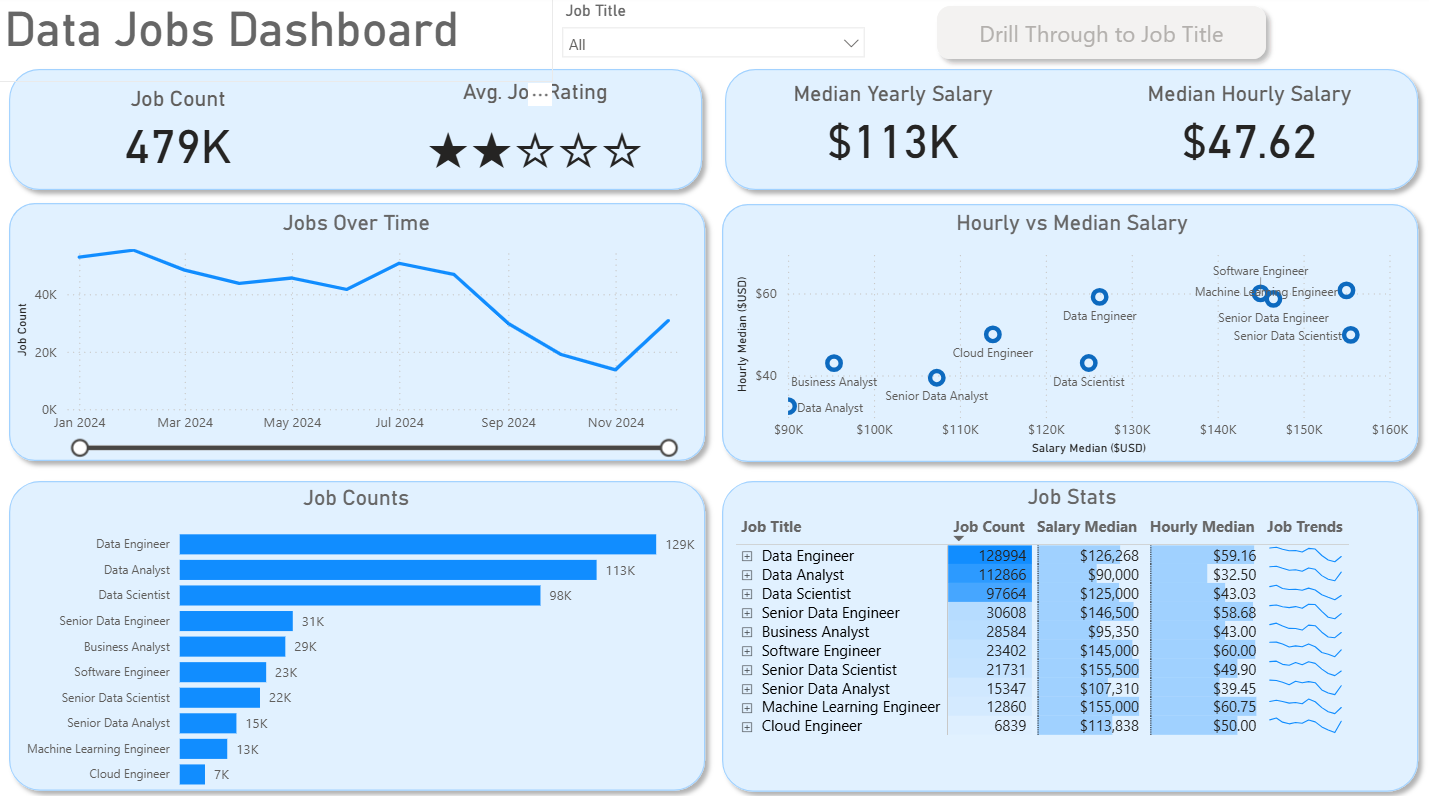

Layout of this report page (visuals, bound fields, positions):
{"tool":"powerbi","page":{"name":"Data Jobs Dashboard","canvas":[1280,720],"ordinal":0},"visuals":[{"type":"group","id":"g1","title":"Background","box":[0,56.3,1280,665],"z":0},{"type":"shape","box":[638.6,425.1,641.4,296.2],"z":0,"group":"g1"},{"type":"scatterChart","title":"Hourly vs Median Salary","fields":{"Series":["job_postings_flat.job_title_short"],"X":["Median(job_postings_flat.salary_year_avg)"],"Y":["Median(job_postings_flat.salary_hour_avg)"]},"box":[655,191.7,612.5,223.9],"z":1000},{"type":"shape","box":[0,425.1,641.4,295.2],"z":1000,"group":"g1"},{"type":"shape","box":[0,176.2,641.4,248.9],"z":2000,"group":"g1"},{"type":"pivotTable","title":"Job Stats","fields":{"Rows":["job_postings_flat.job_title_short","job_postings_flat.job_posted_date.Variation.Date Hierarchy.Quarter"],"Values":["CountNonNull(job_postings_flat.job_title_short)","Median(job_postings_flat.salary_year_avg)","Median(job_postings_flat.salary_hour_avg)","SparklineData(CountNonNull(job_postings_flat.job_title_short)_[job_postings_flat.job_posted_date.Variation.Date Hierarch"]},"box":[655,437.4,612.5,267.4],"z":2000},{"type":"cardVisual","fields":{"Data":["CountNonNull(job_postings_flat.job_title_short)"]},"box":[0.9,61.2,319.8,117.7],"z":3000},{"type":"shape","box":[638.6,177.1,641.4,248.9],"z":3000,"group":"g1"},{"type":"shape","box":[641.4,56.3,638.6,126.3],"z":4000,"group":"g1"},{"type":"cardVisual","fields":{"Data":["Median(job_postings_flat.salary_year_avg)"]},"box":[641.4,56.5,319.8,117.7],"z":4000},{"type":"shape","box":[0,56.3,638.6,126.3],"z":5000,"group":"g1"},{"type":"cardVisual","fields":{"Data":["Median(job_postings_flat.salary_hour_avg)"]},"box":[961.2,56.5,318.8,117.7],"z":5000},{"type":"actionButton","box":[831.2,0,312.5,65.4],"z":6000},{"type":"slicer","fields":{"Values":["job_postings_flat.job_title_short"]},"box":[494.3,0,291.4,80],"z":7000},{"type":"cardVisual","fields":{"Data":["job_postings_flat.Job Rating"]},"box":[320.7,61.2,319.8,117.7],"z":8000},{"type":"textbox","box":[0,0,495.7,77.1],"z":9000},{"type":"barChart","title":"Job Counts","fields":{"Category":["job_postings_flat.job_title_short"],"Y":["CountNonNull(job_postings_flat.job_title_short)"]},"box":[10.2,437.5,620.1,282.7],"z":10000},{"type":"lineChart","title":"Jobs Over Time","fields":{"Category":["job_postings_flat.job_posted_date.Variation.Date Hierarchy.Year","job_postings_flat.job_posted_date.Variation.Date Hierarchy.Quarter","job_postings_flat.job_posted_date.Variation.Date Hierarchy.Month","job_postings_flat.job_posted_date.Variation.Date Hierarchy.Day"],"Y":["CountNonNull(job_postings_flat.job_title_short)"]},"box":[9.8,191.2,620.5,224.4],"z":11000}]}

Visuals, with their boxes in screenshot pixels (x1, y1, x2, y2), scaled from the page's 1280x720 canvas onto the 1429x796 screenshot:
"Background" group: rect(0, 62, 1428, 795)
shape: rect(713, 470, 1428, 795)
"Hourly vs Median Salary" scatterChart: rect(731, 212, 1415, 459)
shape: rect(0, 470, 716, 795)
shape: rect(0, 195, 716, 470)
"Job Stats" pivotTable: rect(731, 484, 1415, 779)
cardVisual - CountNonNull(job_postings_flat.job_title_short): rect(1, 68, 358, 198)
shape: rect(713, 196, 1428, 471)
shape: rect(716, 62, 1428, 202)
cardVisual - Median(job_postings_flat.salary_year_avg): rect(716, 62, 1073, 193)
shape: rect(0, 62, 713, 202)
cardVisual - Median(job_postings_flat.salary_hour_avg): rect(1073, 62, 1428, 193)
actionButton: rect(928, 0, 1277, 72)
slicer - job_postings_flat.job_title_short: rect(552, 0, 877, 88)
cardVisual - job_postings_flat.Job Rating: rect(358, 68, 715, 198)
textbox: rect(0, 0, 553, 85)
"Job Counts" barChart: rect(11, 484, 704, 795)
"Jobs Over Time" lineChart: rect(11, 211, 704, 459)
